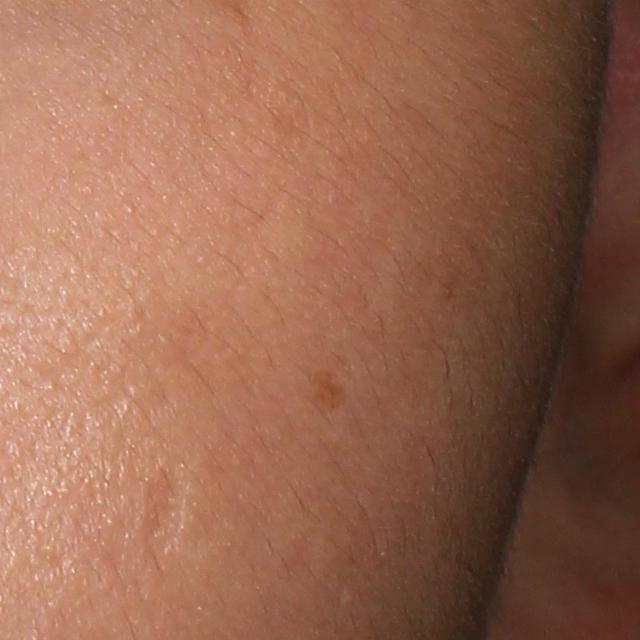atrophic_scar: (142, 452, 197, 569)
melasma: (307, 367, 348, 412)
